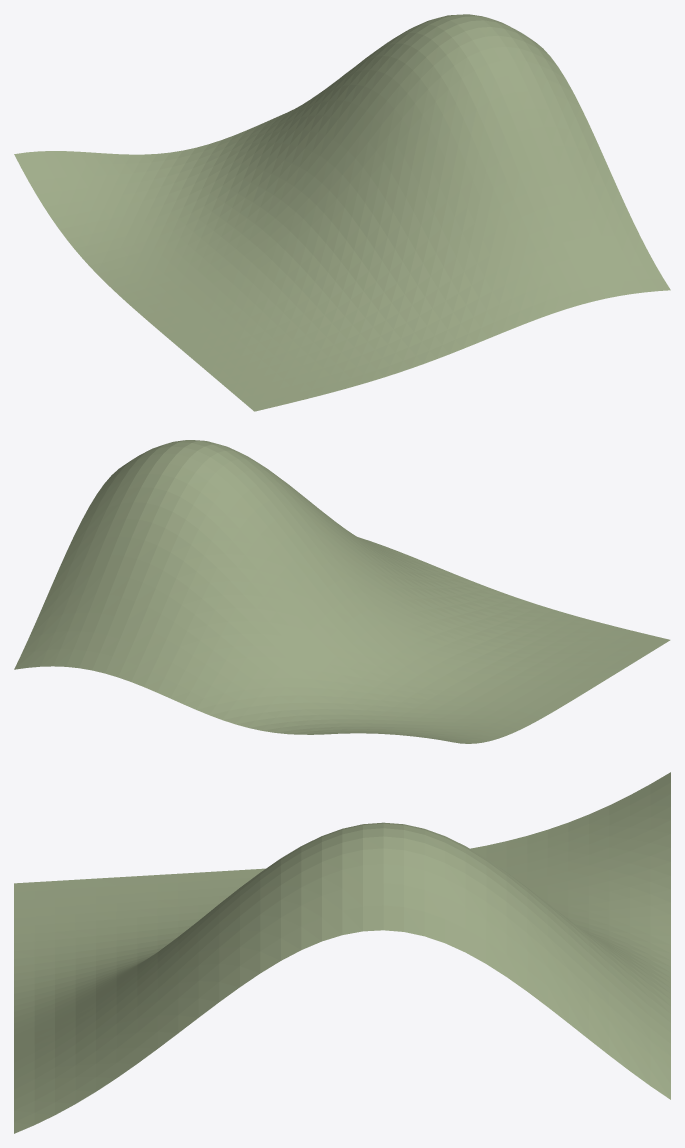
File: canyon-4-3.glb
3 renders of one model, top to bottom at view 1: azimuth 30°, elevation 25°; view 2: azimuth 150°, elevation 25°; view 3: azimuth 270°, elevation 25°, orthographic. The views are drawn at different scales.
Parts seen in each view (by area): view 1: canyon-4-3; view 2: canyon-4-3; view 3: canyon-4-3.
Boxes of the visible parts, bbox=[...] form: canyon-4-3: bbox=[14, 14, 670, 411]; canyon-4-3: bbox=[14, 440, 670, 743]; canyon-4-3: bbox=[14, 772, 670, 1133].
Bounding box in the file's own units: 128 × 60.49 × 128.
